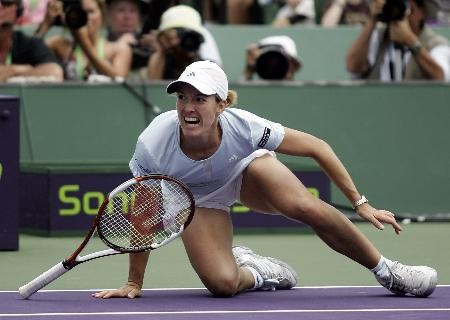falling: (101, 53, 440, 301)
